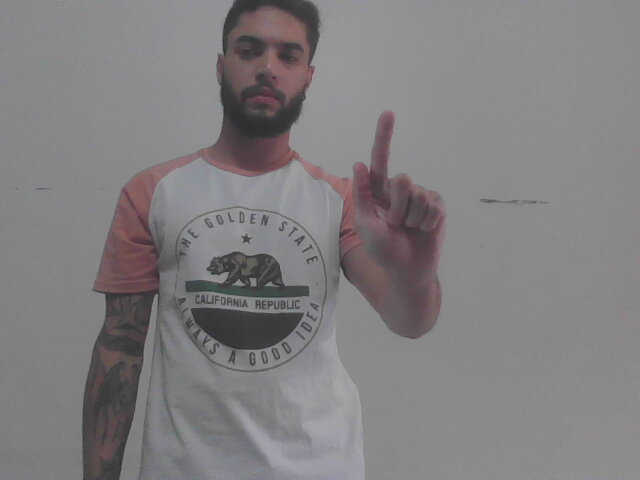g: (345, 106, 456, 286)
